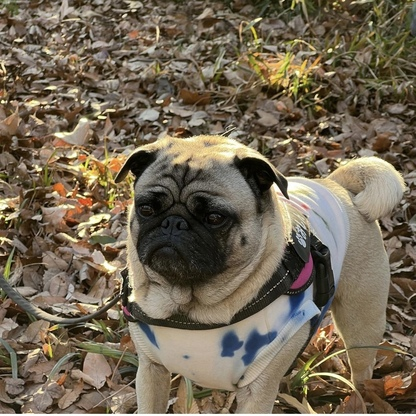Pug: (110, 126, 408, 416)
